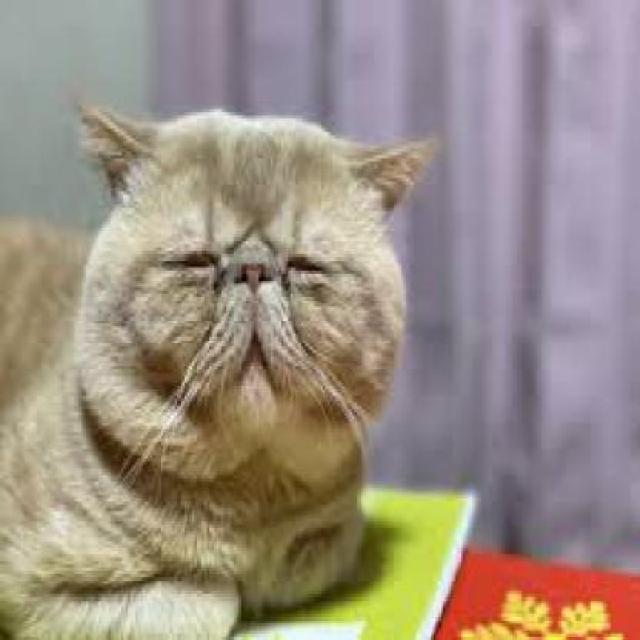cat: (2, 84, 446, 638)
